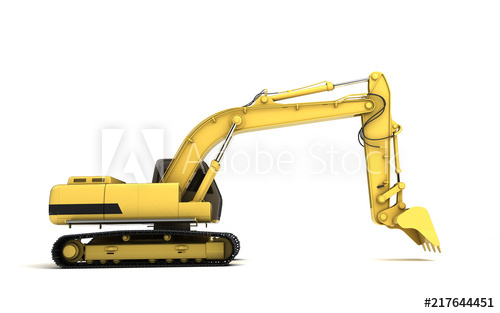backhoe: (44, 66, 441, 271)
